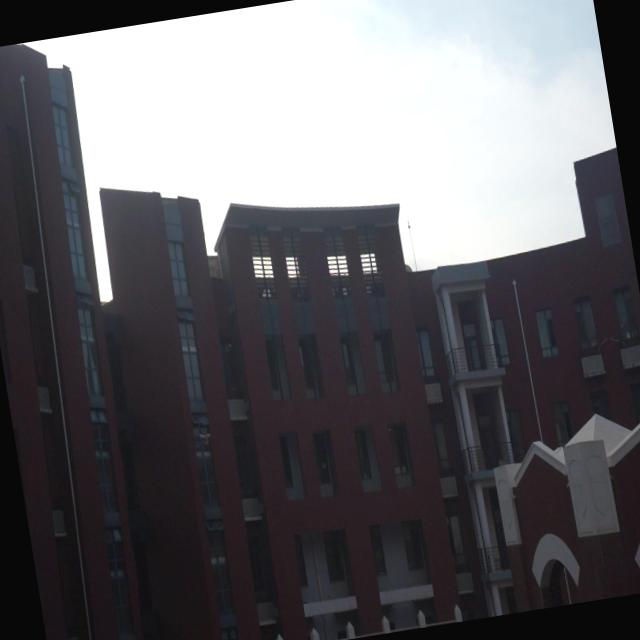drone: (196, 424, 214, 448)
